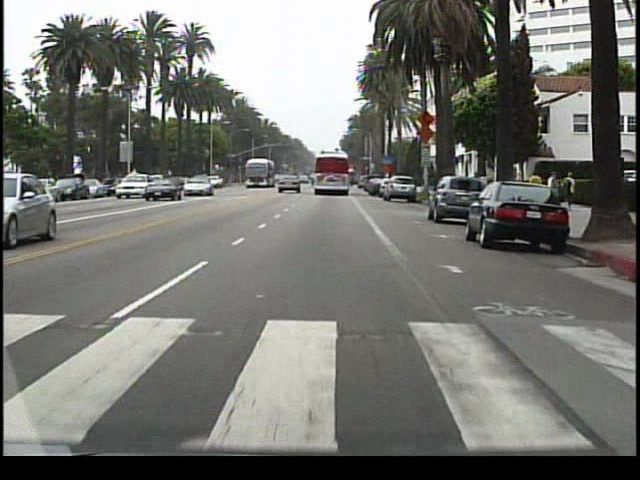person: (469, 169, 483, 199)
